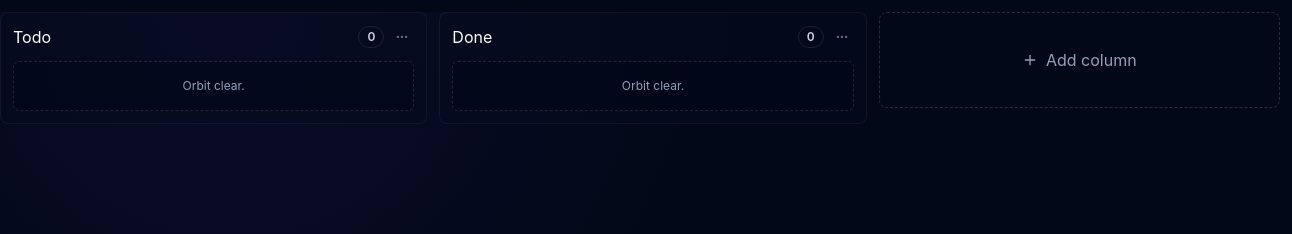
Scenario: KanbanBoard › starts a rename from the options menu
The width and height of the screenshot is (1292, 234).
Click the button named "Todo column options".
click(402, 37)  # box [390,25,414,49]
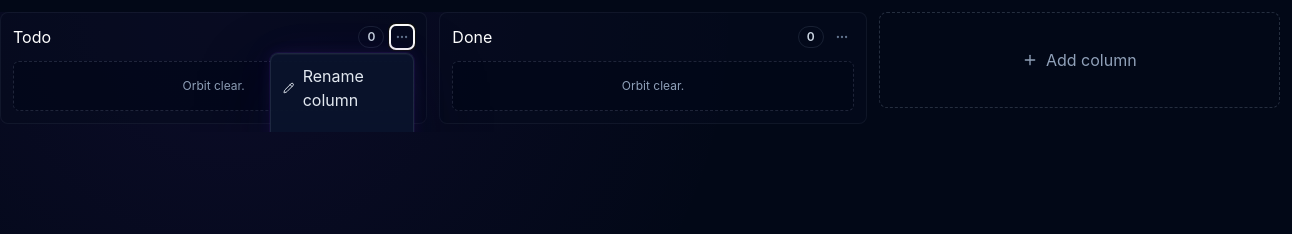
Click the menu item "Rename column".
click(342, 88)  # box [275,58,409,118]
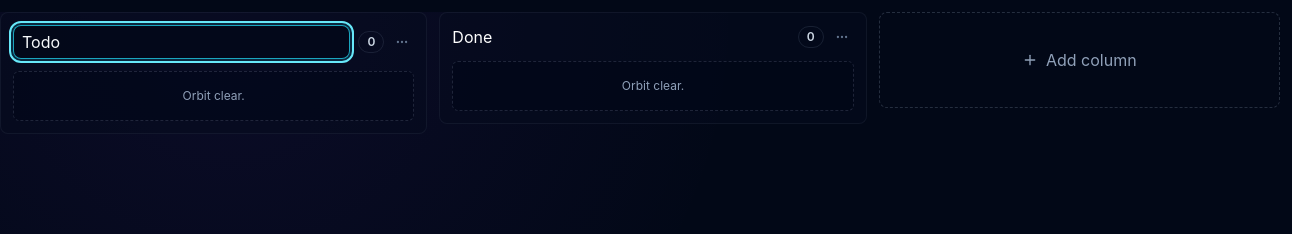
Check: the field named "Column name" holds "Todo", box [13,25,350,59]
